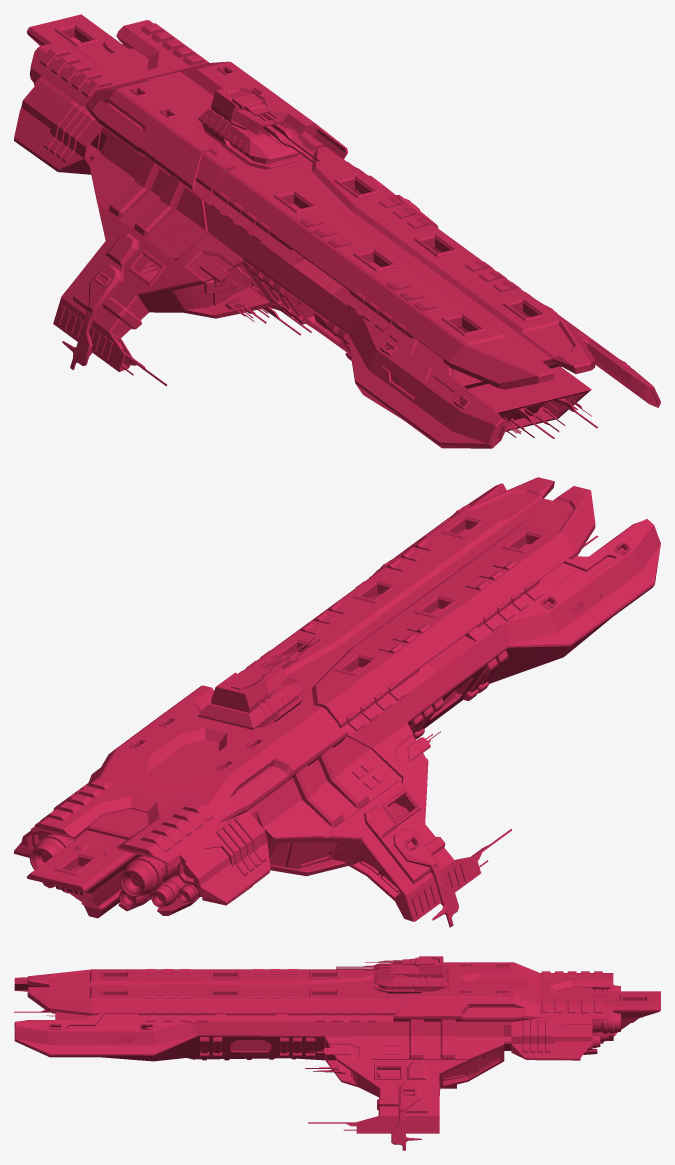
The model's file is boss.FBX.
3 renders of one model, top to bottom at view 1: azimuth 30°, elevation 25°; view 2: azimuth 150°, elevation 25°; view 3: azimuth 270°, elevation 25°, orthographic. The views are drawn at different scales.
Visible parts, largest first — view 1: boss, boss_pao; view 2: boss, boss_pao; view 3: boss, boss_pao.
Boxes of the visible parts, bbox=[...] form: boss: bbox=[14, 14, 660, 448]; boss_pao: bbox=[211, 83, 319, 163]; boss: bbox=[14, 477, 660, 927]; boss_pao: bbox=[211, 637, 319, 712]; boss: bbox=[14, 962, 660, 1150]; boss_pao: bbox=[336, 956, 443, 977].
Size of the model in its own units: 3738 by 1991 by 8817.
